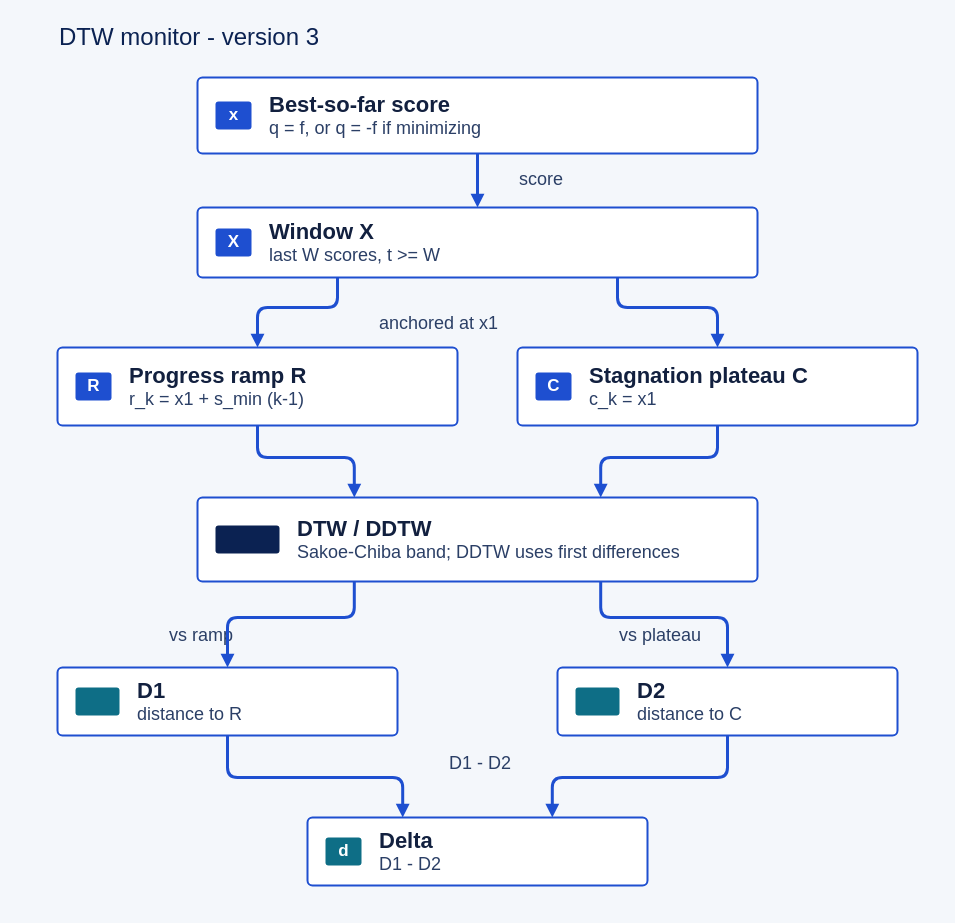
Some shapes in this 955 by 923 pixel diagram are drawn without their labels. Each missing label, with the centre of its shape:
"D1" goes at (x=97, y=701).
"D2" goes at (x=597, y=701).
"DTW" goes at (x=247, y=539).
